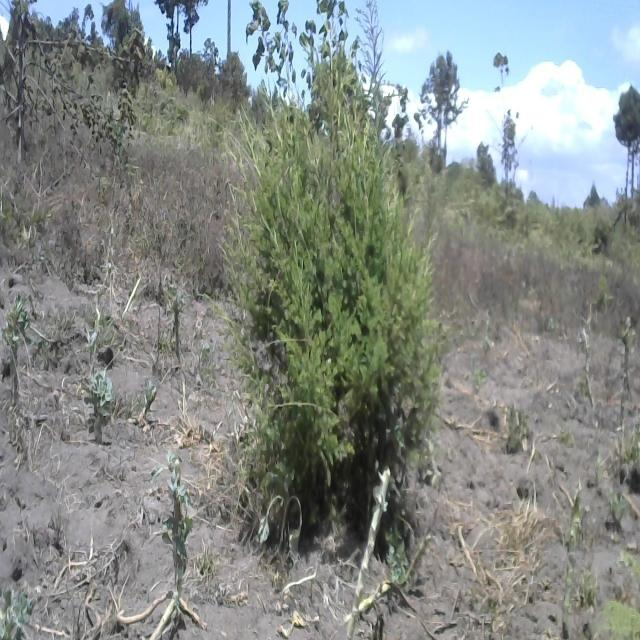Juniperus procesera: (222, 66, 455, 564)
